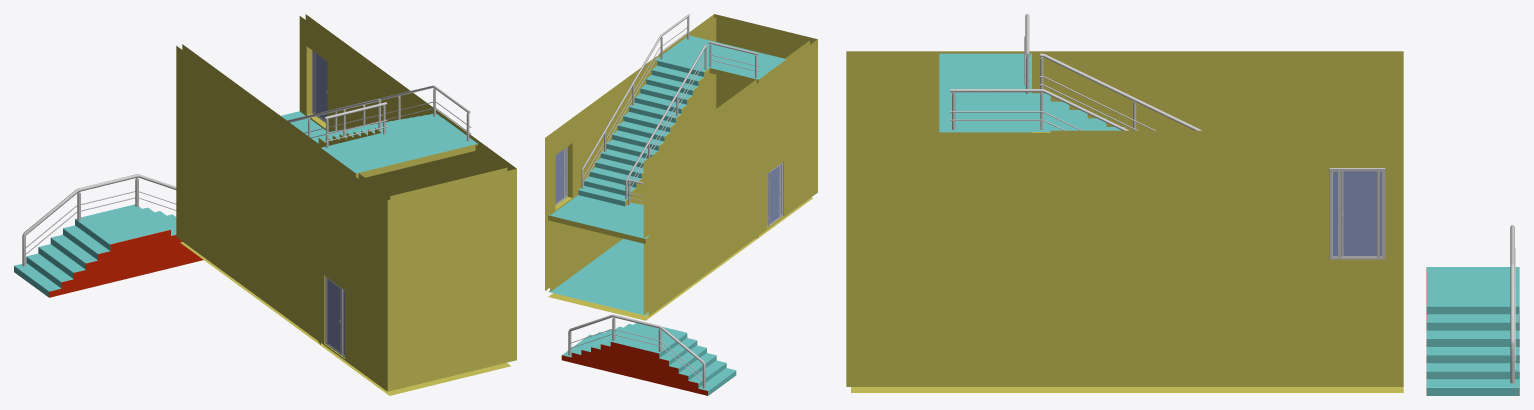
Rendered from stairs.fbx.
The picture shows the model from 3 angles, left to right: view 1: azimuth 30°, elevation 25°; view 2: azimuth 150°, elevation 25°; view 3: azimuth 270°, elevation 25°; orthographic projection. The views are drawn at different scales.
Visible parts, largest first — view 1: stairs_wall_2, stairs_wall_1, stair_c, f2, stair_border_c, stairs_floor, stair_b, s_door_open_1, stair_border_4, s_door_open_2, stair_c_4, stair_border_5 (+1 smaller); view 2: stairs_wall_2, stairs_wall_1, stair_b, stair_c, stairs_floor, f2, f1, stair_border_c, stair_border_4, stair_c_4, s_door_open_1, s_door_open_2 (+2 smaller); view 3: stairs_wall_2, stairs_wall_1, stair_c, f2, stairs_floor, s_door_open_2, s_door, stair_b, stair_border_4, stair_c_4, stair_border_c.
Boxes of the visible parts, x1=… form: stairs_wall_2: x1=176, y1=14, x2=516, y2=295; stairs_wall_1: x1=176, y1=141, x2=516, y2=391; stair_c: x1=14, y1=204, x2=203, y2=297; f2: x1=321, y1=118, x2=477, y2=178; stair_border_c: x1=22, y1=174, x2=176, y2=266; stairs_floor: x1=180, y1=242, x2=510, y2=395; stair_b: x1=310, y1=113, x2=441, y2=146; s_door_open_1: x1=327, y1=277, x2=342, y2=355; stair_border_4: x1=334, y1=85, x2=471, y2=141; s_door_open_2: x1=314, y1=52, x2=327, y2=122; stair_c_4: x1=287, y1=98, x2=382, y2=138; stair_border_5: x1=324, y1=102, x2=387, y2=148; stairs_wall_2: x1=545, y1=14, x2=817, y2=239; stairs_wall_1: x1=545, y1=94, x2=817, y2=315; stair_b: x1=578, y1=56, x2=709, y2=206; stair_c: x1=561, y1=323, x2=736, y2=395; stairs_floor: x1=548, y1=197, x2=812, y2=320; f2: x1=662, y1=35, x2=786, y2=83; f1: x1=548, y1=195, x2=648, y2=243; stair_border_c: x1=568, y1=314, x2=705, y2=388; stair_border_4: x1=581, y1=14, x2=690, y2=188; stair_c_4: x1=625, y1=45, x2=706, y2=199; s_door_open_1: x1=768, y1=164, x2=780, y2=226; s_door_open_2: x1=555, y1=148, x2=565, y2=205; stairs_wall_2: x1=846, y1=51, x2=1403, y2=260; stairs_wall_1: x1=846, y1=261, x2=1403, y2=386; stair_c: x1=1426, y1=267, x2=1519, y2=395; f2: x1=939, y1=53, x2=1031, y2=134; stairs_floor: x1=851, y1=387, x2=1403, y2=392; s_door_open_2: x1=1341, y1=171, x2=1376, y2=256; s_door: x1=1329, y1=168, x2=1385, y2=259; stair_b: x1=1032, y1=93, x2=1124, y2=134; stair_border_4: x1=950, y1=89, x2=1128, y2=130; stair_c_4: x1=1040, y1=53, x2=1202, y2=130; stair_border_c: x1=1510, y1=225, x2=1515, y2=383.
Bounding box in the file's own units: 8.19 × 8.18 × 14.5.
